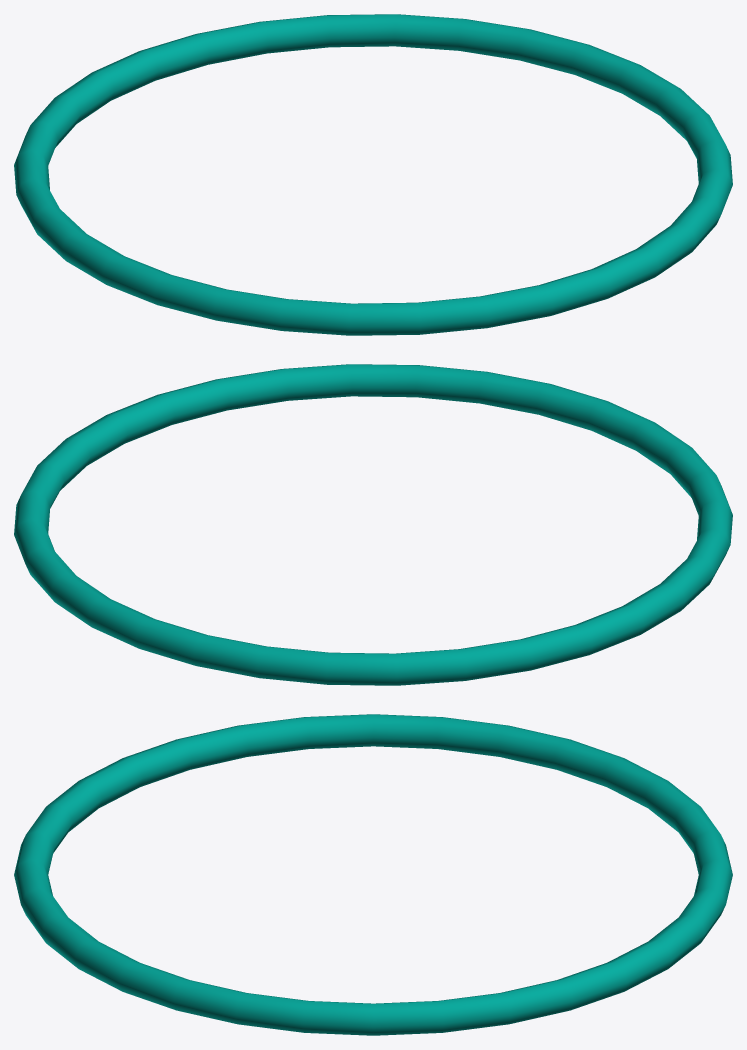
File: Hulahop.fbx
3 views of the same model, one above another, from view 1: azimuth 30°, elevation 25°; view 2: azimuth 150°, elevation 25°; view 3: azimuth 270°, elevation 25° (orthographic).
Parts seen in each view (by area): view 1: Hulahop; view 2: Hulahop; view 3: Hulahop.
Part boxes in pixels (x1=…): Hulahop: x1=14, y1=14, x2=732, y2=335; Hulahop: x1=14, y1=364, x2=732, y2=685; Hulahop: x1=14, y1=714, x2=732, y2=1035.
Bounding box in the file's own units: 49.07 × 2.34 × 49.07.
